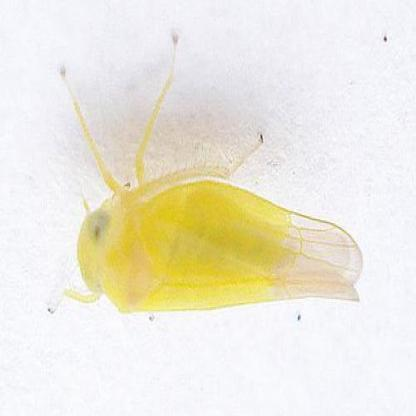green-leafhopper: (69, 159, 366, 318)
